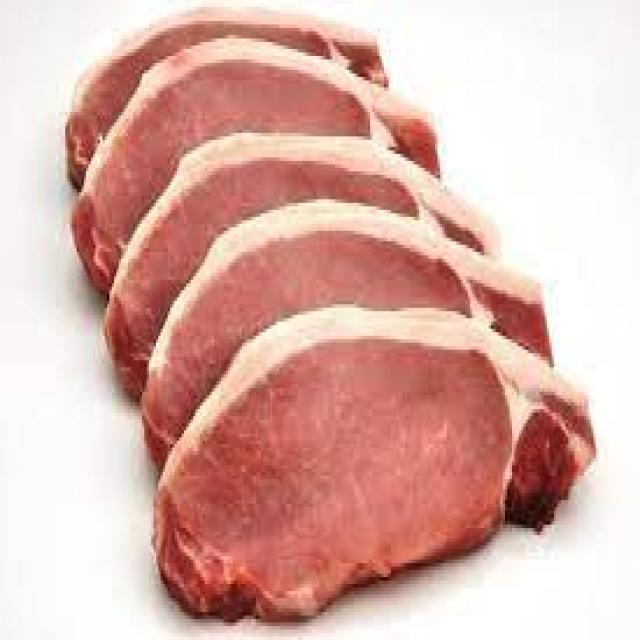pork belly: (156, 308, 596, 621), (109, 136, 486, 393), (142, 199, 475, 463), (74, 38, 372, 292), (65, 7, 389, 187)
